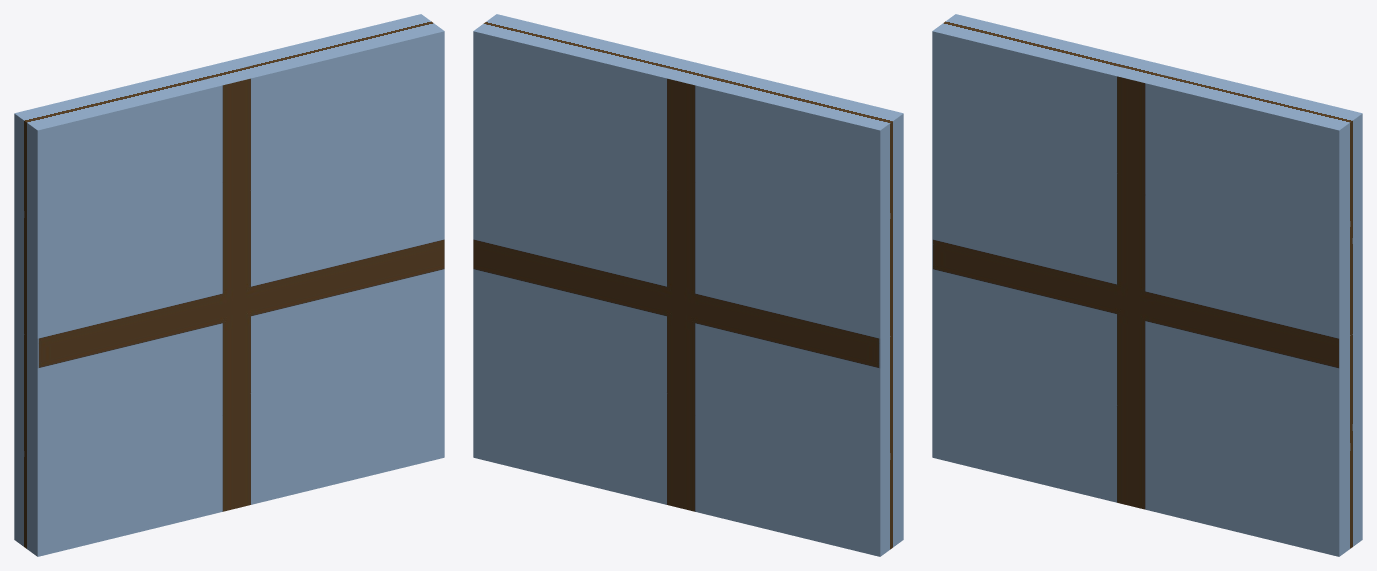
Rendered from ventana1.obj.
The picture shows the model from 3 angles, left to right: view 1: azimuth 30°, elevation 25°; view 2: azimuth 150°, elevation 25°; view 3: azimuth 330°, elevation 25°; orthographic projection.
Parts seen in each view (by area): view 1: pasted__pasted__pasted__polySurface10 pasted__pasted__pasted__pa; view 2: pasted__pasted__pasted__polySurface10 pasted__pasted__pasted__pa; view 3: pasted__pasted__pasted__polySurface10 pasted__pasted__pasted__pa.
Boxes of the visible parts, left/top/right/bottom form: pasted__pasted__pasted__polySurface10 pasted__pasted__pasted__pa: left=14, top=14, right=444, bottom=556; pasted__pasted__pasted__polySurface10 pasted__pasted__pasted__pa: left=473, top=14, right=903, bottom=556; pasted__pasted__pasted__polySurface10 pasted__pasted__pasted__pa: left=932, top=14, right=1362, bottom=556.
Bounding box in the file's own units: 0.9989 × 1 × 0.1.
Materials: 1 (1 with a texture image).
